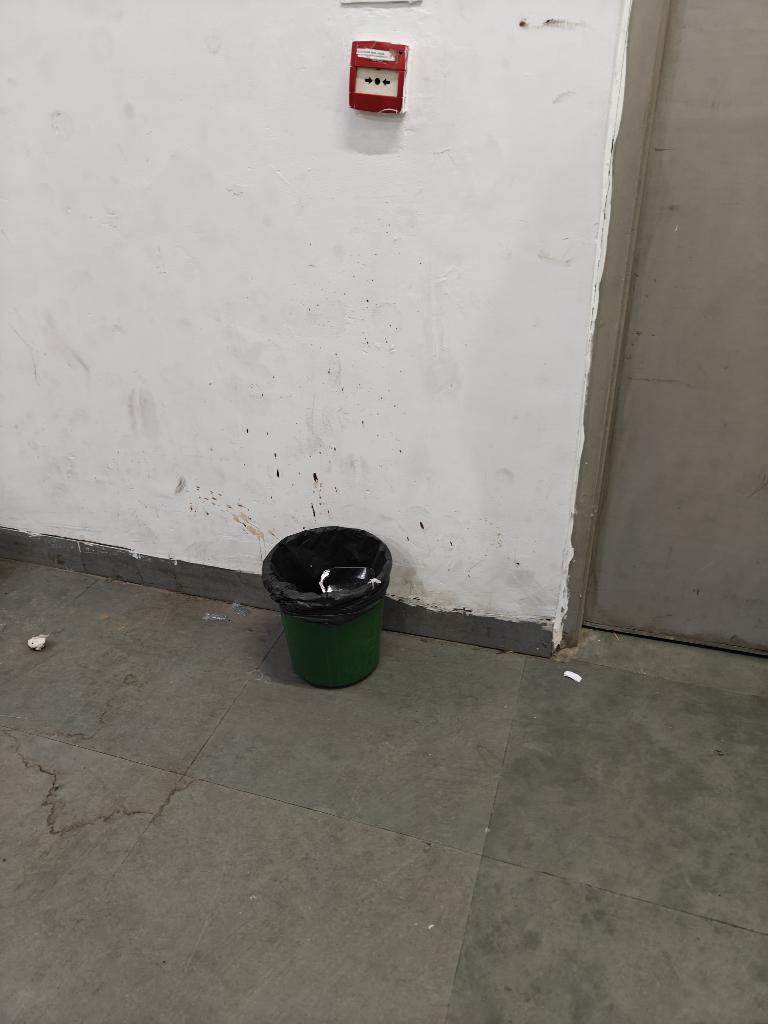dustbin: (249, 513, 404, 706)
